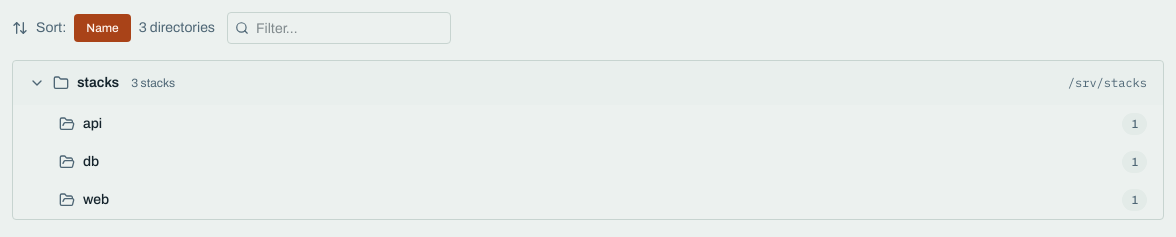
Test: DirectoriesTab — filtering › ignores surrounding whitespace
This screenshot has width=1176, height=237.
Type "  web  " into the field with placeholder "Filter…". click: (339, 28)
box: top-left (227, 12), bottom-right (451, 44)
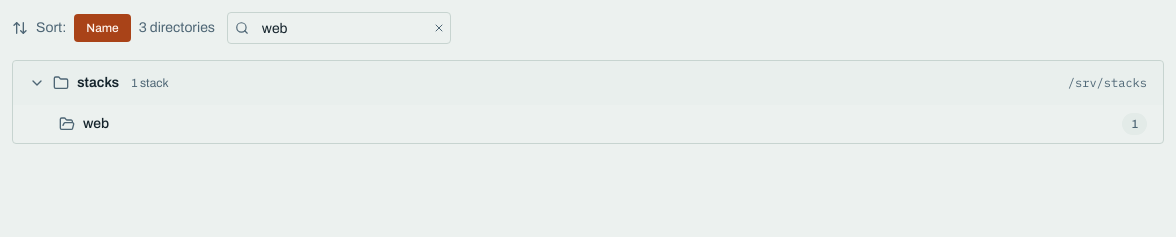
Expected: the text "web" is shown, top-left (83, 116), bottom-right (109, 131)
Result: the text "api" is gone
